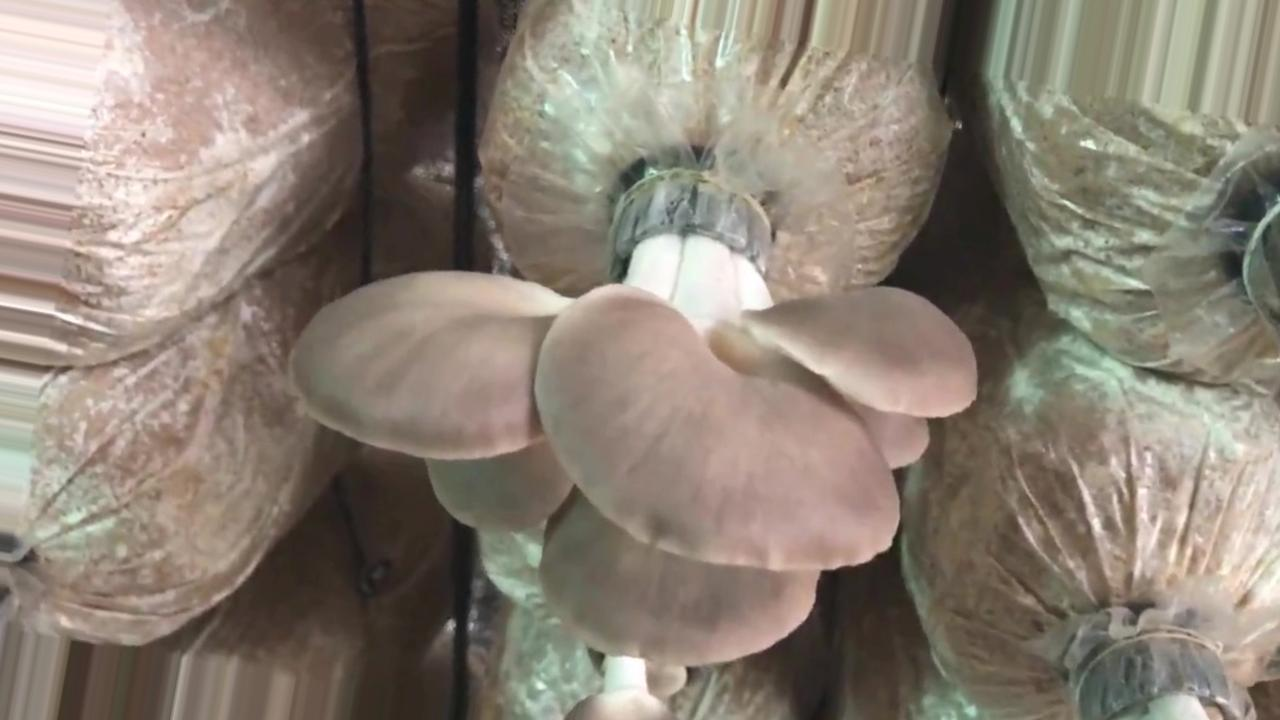nam: (288, 173, 976, 663), (572, 656, 688, 720)
